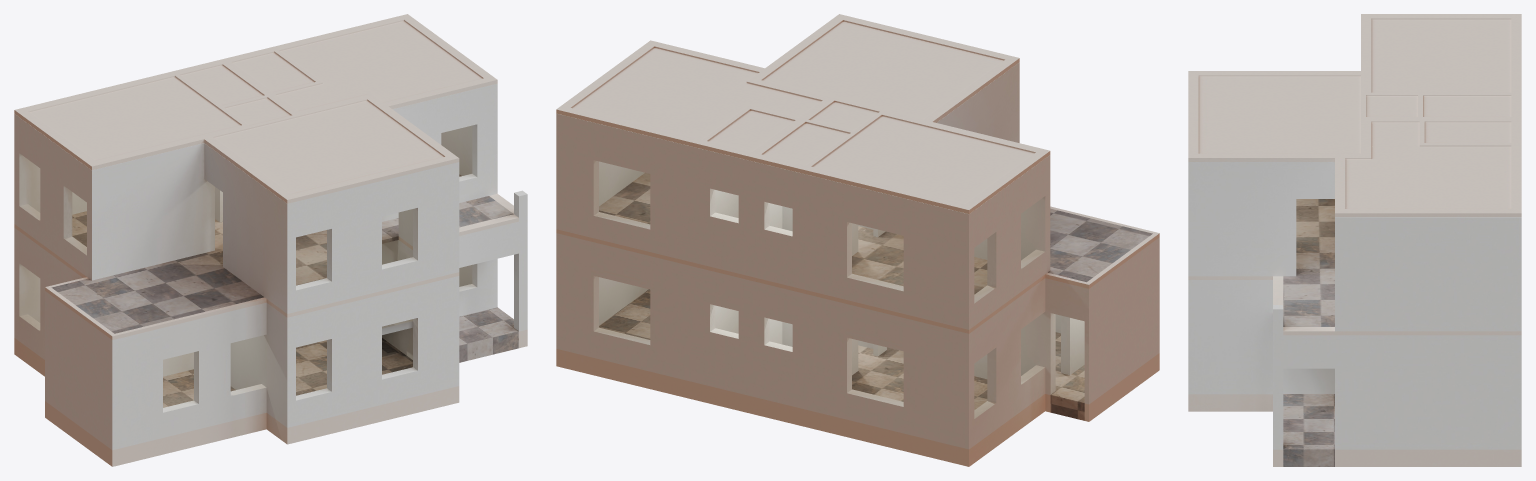
Rendered from arch_lij.glb.
The picture shows the model from 3 angles, left to right: view 1: azimuth 30°, elevation 25°; view 2: azimuth 150°, elevation 25°; view 3: azimuth 270°, elevation 25°; orthographic projection. The views are drawn at different scales.
Parts seen in each view (by area): view 1: walls_2nd_baked, walls_baked, roof_baked, floor_2nd_baked, floor_baked; view 2: walls_baked, walls_2nd_baked, roof_baked, floor_baked, floor_2nd_baked; view 3: roof_baked, walls_2nd_baked, walls_baked, floor_baked, floor_2nd_baked.
Part boxes in pixels (bbox=[...]): walls_2nd_baked: bbox=[14, 83, 527, 313]; walls_baked: bbox=[14, 219, 527, 450]; roof_baked: bbox=[14, 14, 497, 203]; floor_2nd_baked: bbox=[14, 174, 518, 339]; floor_baked: bbox=[14, 307, 527, 466]; walls_baked: bbox=[556, 233, 1159, 449]; walls_2nd_baked: bbox=[556, 62, 1050, 329]; roof_baked: bbox=[556, 14, 1050, 213]; floor_baked: bbox=[556, 289, 1159, 466]; floor_2nd_baked: bbox=[556, 172, 1159, 333]; roof_baked: bbox=[1188, 14, 1521, 216]; walls_2nd_baked: bbox=[1188, 162, 1521, 335]; walls_baked: bbox=[1188, 280, 1521, 449]; floor_baked: bbox=[1188, 394, 1521, 466]; floor_2nd_baked: bbox=[1188, 199, 1521, 335].
Bounding box in the file's own units: 12.08 × 6.49 × 7.72.
6 materials, 6 textured.
